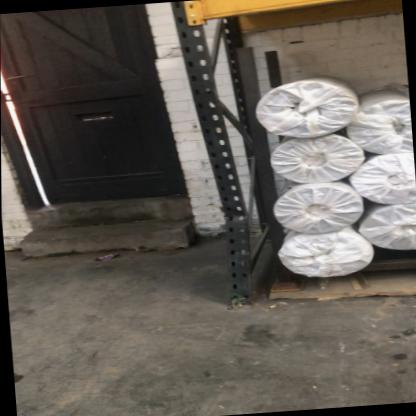vertical_damage: (206, 176, 258, 246)
